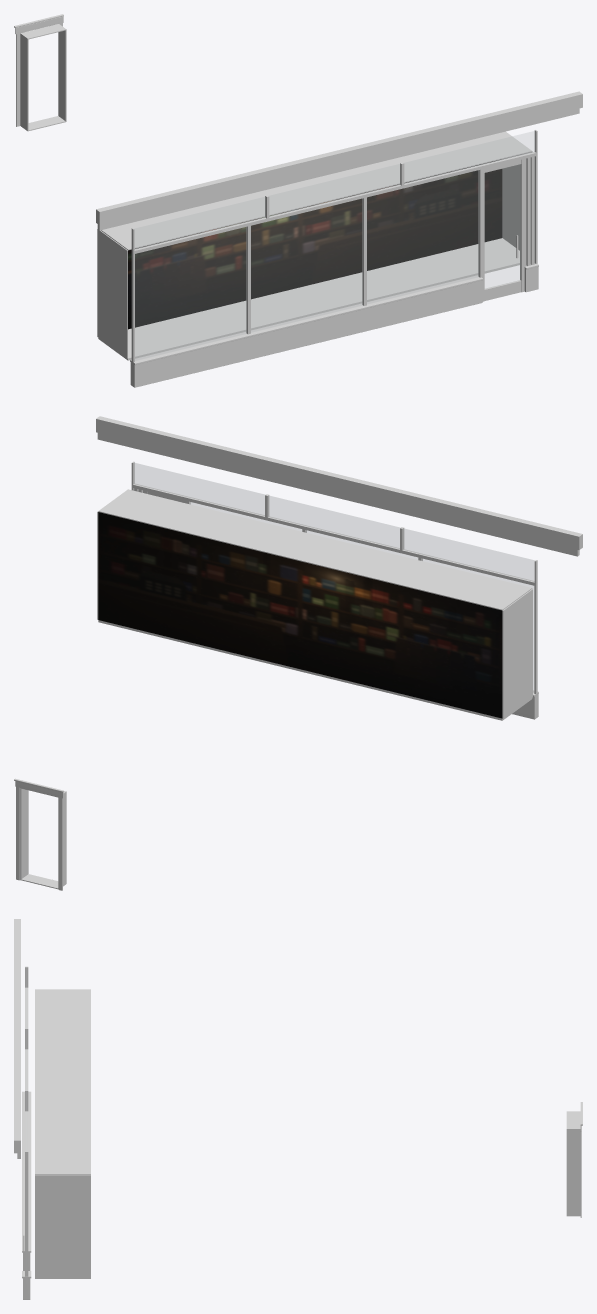
Rendered from SM_Town_Barber_Trim.fbx.
The picture shows the model from 3 angles, top to bottom: view 1: azimuth 30°, elevation 25°; view 2: azimuth 150°, elevation 25°; view 3: azimuth 270°, elevation 25°; orthographic projection. The views are drawn at different scales.
Parts seen in each view (by area): view 1: SM_Town_Barber_Trim_1; view 2: SM_Town_Barber_Trim_1; view 3: SM_Town_Barber_Trim_1.
Boxes of the visible parts, box(x1,y1,x2,y2) form: SM_Town_Barber_Trim_1: box(14, 14, 582, 387); SM_Town_Barber_Trim_1: box(14, 416, 582, 890); SM_Town_Barber_Trim_1: box(14, 919, 582, 1299).
Bounding box in the file's own units: 1124 × 420 × 1220.
